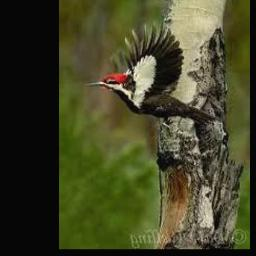Woodpecker: (86, 23, 221, 127)
